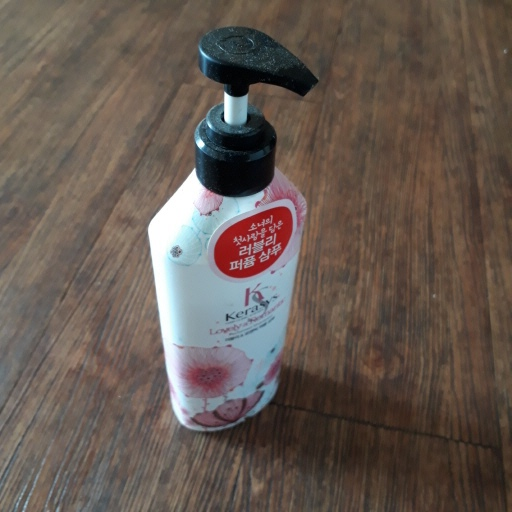Plastic_3: (143, 26, 317, 436)
